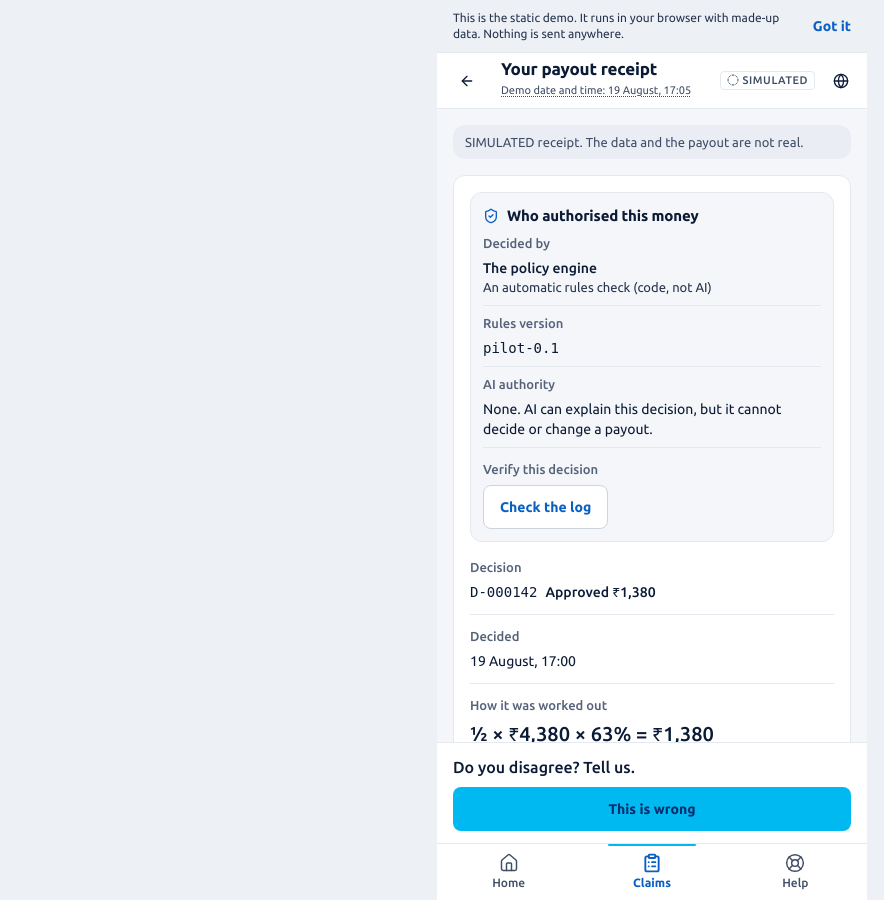
Scenario: what this screen leads to › says disagree next on a paid claim, and the bar opens the claim with the dispute button focused
Click the button with test id "app-nba-action": [652, 809] box 453,787 -> 851,831
(page scrolled)
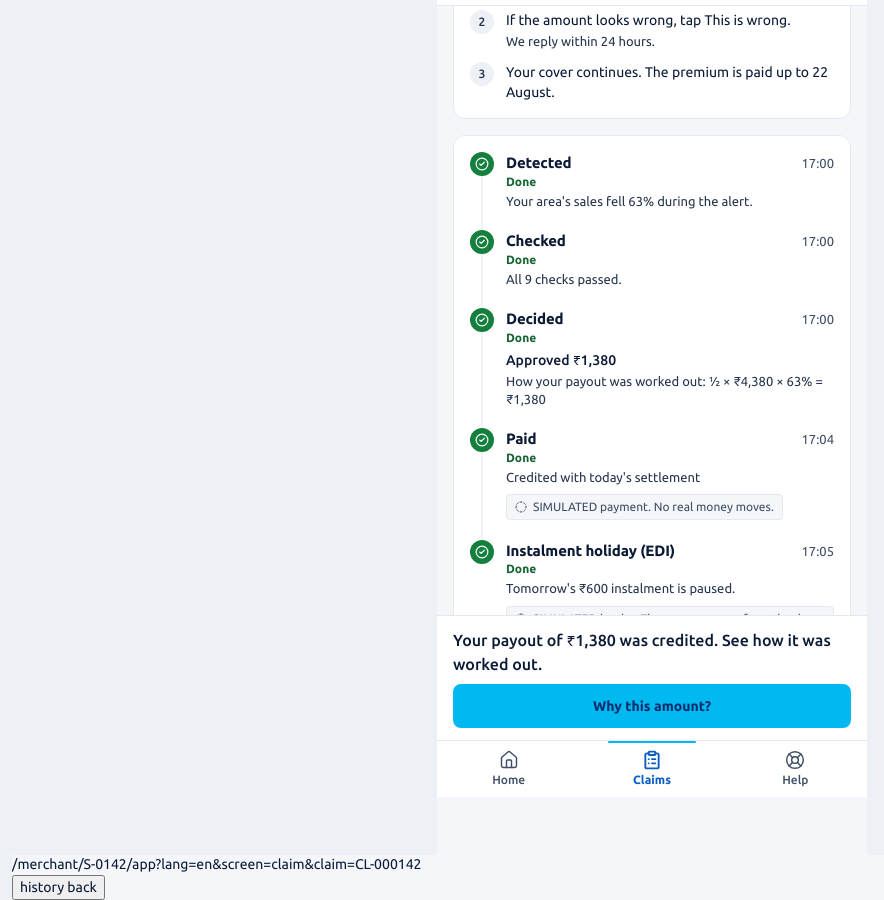
Expected: the text with test id "probe-location" reads "/merchant/S-0142/app?lang=en&screen=claim&claim=CL-000142", 12,856 -> 422,872
